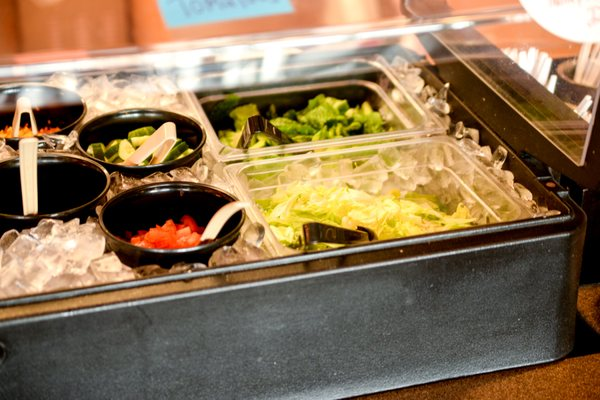sushi: (99, 179, 245, 269), (0, 147, 110, 233), (77, 107, 206, 176)
